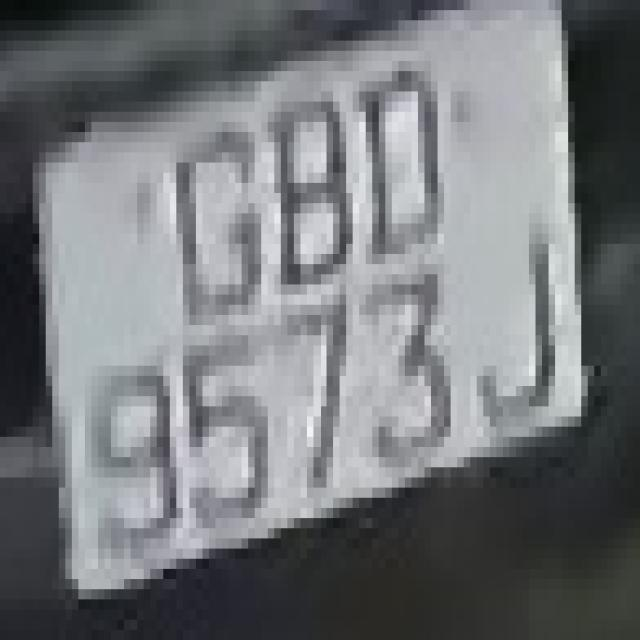3: (333, 223, 457, 478)
5: (170, 325, 274, 549)
7: (248, 254, 340, 518)
8: (72, 325, 176, 589)
B: (235, 71, 346, 295)
D: (352, 51, 450, 274)
G: (163, 92, 268, 336)
J: (457, 203, 562, 447)
